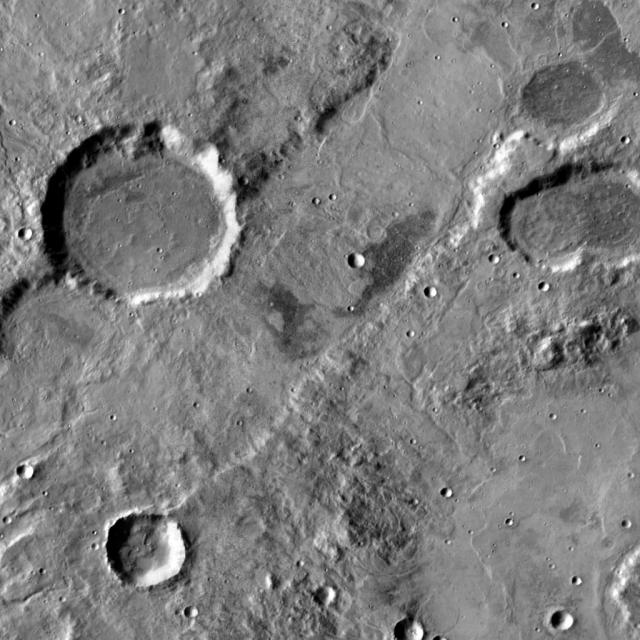crater: (46, 127, 250, 309), (0, 276, 129, 393), (506, 177, 614, 274), (552, 165, 640, 273), (525, 64, 622, 152), (111, 516, 193, 590), (400, 620, 431, 640), (556, 614, 580, 635), (320, 589, 343, 609), (373, 226, 390, 242), (354, 256, 372, 271), (24, 467, 40, 481), (25, 230, 40, 242), (192, 610, 204, 622), (431, 289, 444, 300), (448, 490, 460, 501), (546, 285, 558, 295), (578, 580, 590, 590), (244, 178, 255, 188), (496, 258, 506, 266), (629, 524, 639, 532), (510, 521, 520, 529), (328, 188, 336, 196), (98, 545, 106, 553), (303, 562, 311, 570), (409, 492, 417, 500), (539, 6, 546, 14), (628, 141, 636, 148), (548, 409, 556, 416), (320, 200, 327, 207), (4, 512, 11, 519), (414, 334, 421, 341), (518, 452, 526, 458), (335, 40, 342, 46), (74, 111, 80, 117)
